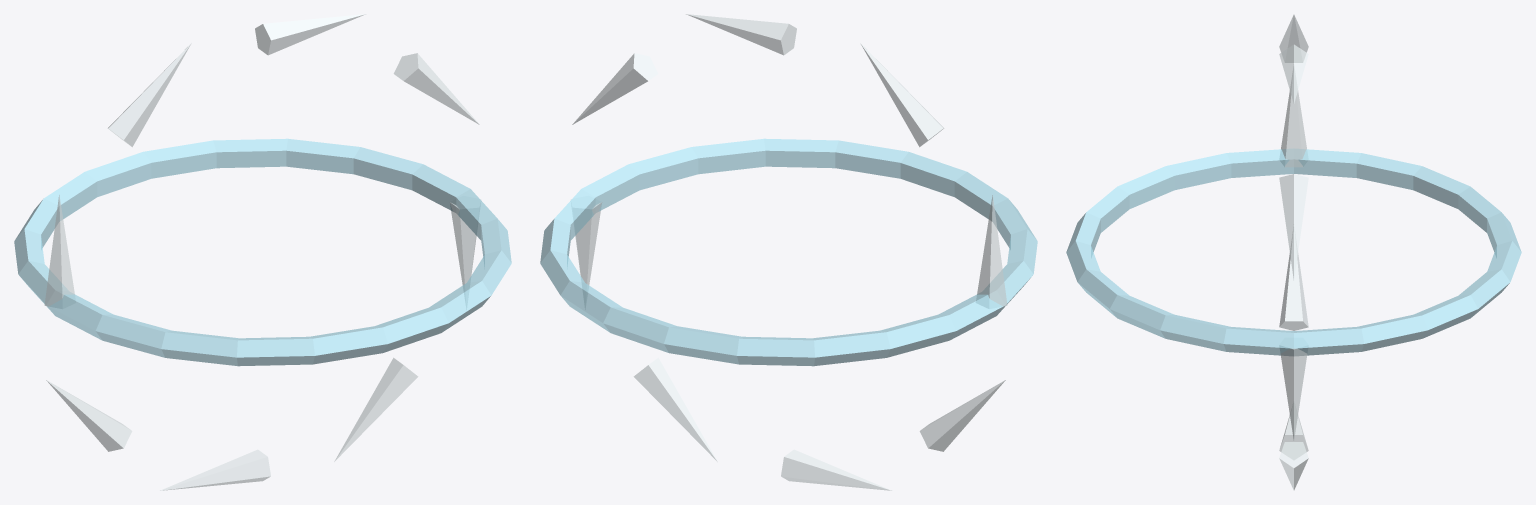
Rendered from vfx_freeze_status_ring.glb.
3 views of the same model, side by side, from view 1: azimuth 30°, elevation 25°; view 2: azimuth 150°, elevation 25°; view 3: azimuth 270°, elevation 25° (orthographic). The views are drawn at different scales.
Visible parts, largest first — view 1: ring, icicle_2, icicle_6, icicle_3, icicle_7, icicle_4, icicle_0, icicle_1, icicle_5; view 2: ring, icicle_2, icicle_6, icicle_3, icicle_7, icicle_4, icicle_0, icicle_1, icicle_5; view 3: ring, icicle_1, icicle_5, icicle_0, icicle_4, icicle_2, icicle_6, icicle_7, icicle_3.
Part boxes in pixels (bbox=[...]): ring: bbox=[14, 138, 511, 366]; icicle_2: bbox=[255, 14, 365, 55]; icicle_6: bbox=[160, 449, 270, 490]; icicle_3: bbox=[108, 43, 191, 146]; icicle_7: bbox=[334, 358, 417, 461]; icicle_4: bbox=[44, 195, 75, 308]; icicle_0: bbox=[449, 196, 481, 307]; icicle_1: bbox=[394, 53, 479, 124]; icicle_5: bbox=[46, 380, 131, 451]; ring: bbox=[540, 138, 1037, 366]; icicle_2: bbox=[686, 14, 796, 55]; icicle_6: bbox=[781, 449, 891, 490]; icicle_3: bbox=[860, 43, 943, 146]; icicle_7: bbox=[634, 358, 717, 461]; icicle_4: bbox=[976, 195, 1007, 308]; icicle_0: bbox=[570, 196, 602, 307]; icicle_1: bbox=[572, 53, 657, 124]; icicle_5: bbox=[920, 380, 1005, 451]; ring: bbox=[1066, 149, 1521, 355]; icicle_1: bbox=[1279, 174, 1308, 279]; icicle_5: bbox=[1279, 227, 1308, 330]; icicle_0: bbox=[1280, 338, 1307, 439]; icicle_4: bbox=[1280, 67, 1307, 167]; icicle_2: bbox=[1279, 44, 1308, 103]; icicle_6: bbox=[1279, 403, 1308, 459]; icicle_7: bbox=[1279, 442, 1308, 489]; icicle_3: bbox=[1279, 15, 1308, 62].
Bounding box in the file's own units: 1.18 × 1.18 × 1.17.
